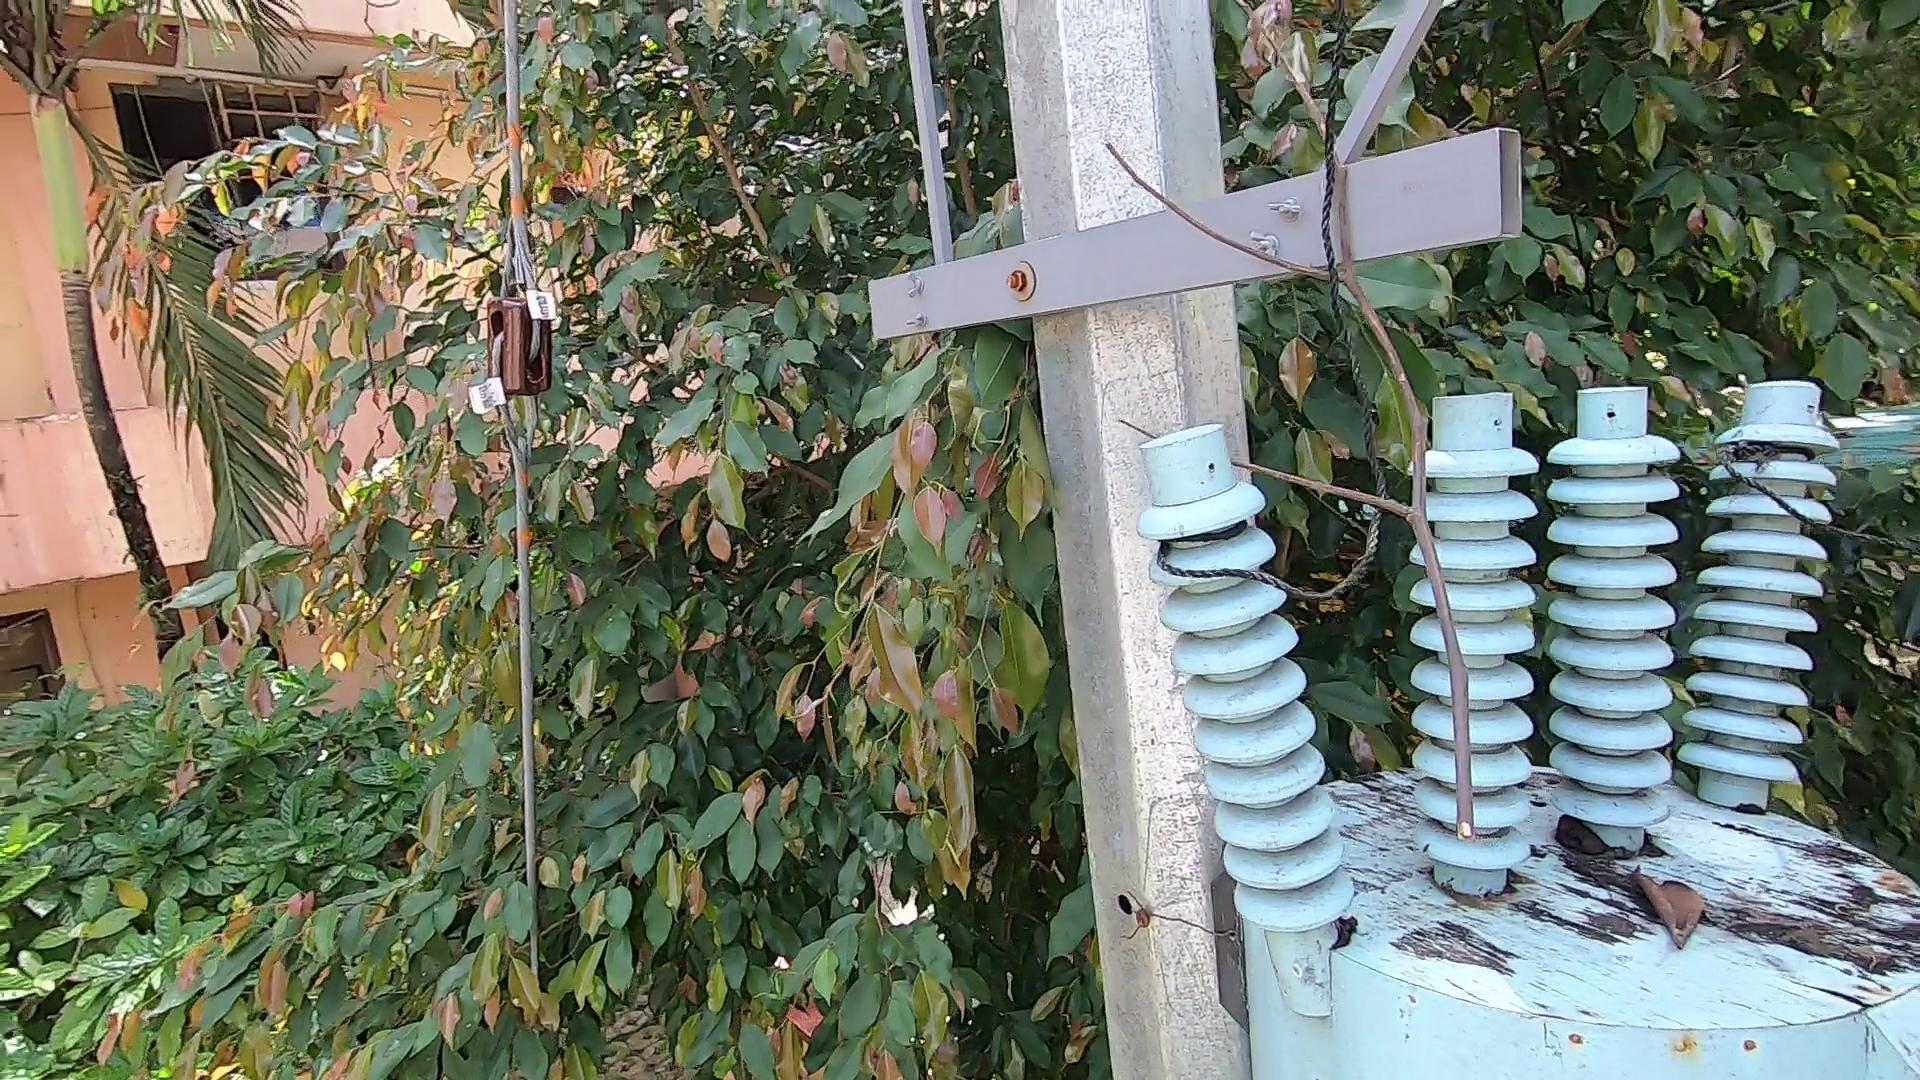leaf: (1636, 866, 1724, 963), (1560, 814, 1611, 864)
tree branch: (1069, 37, 1526, 841)
